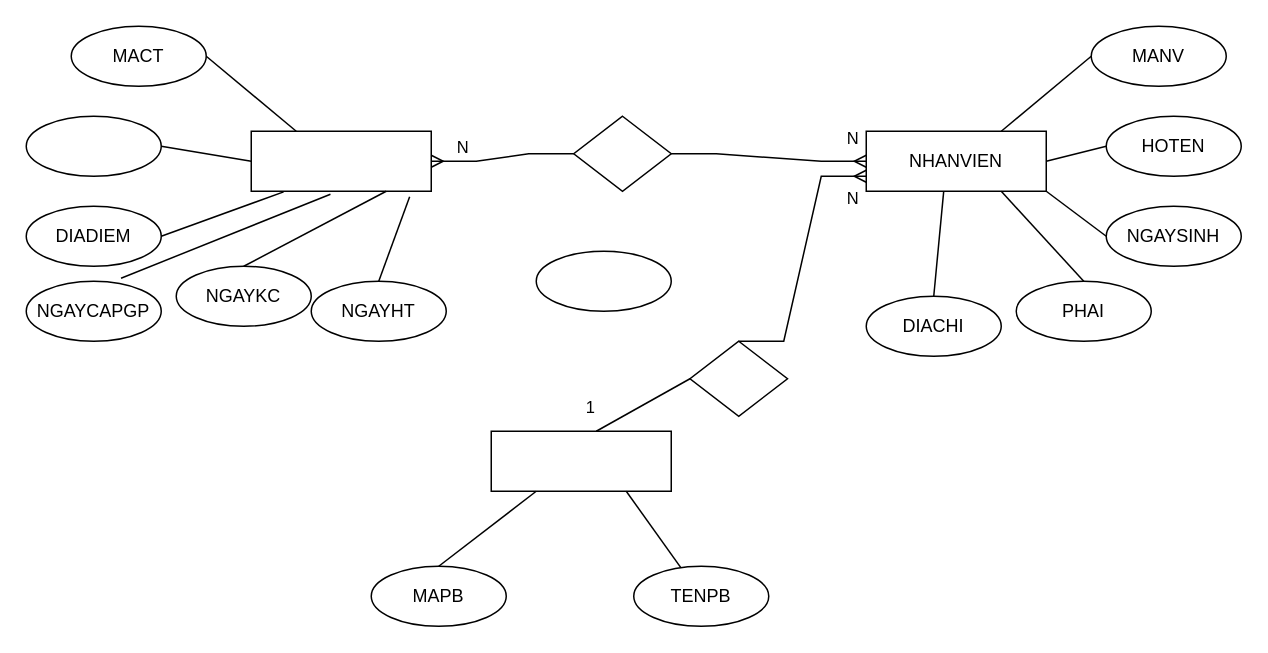
This 1268x653 diagram has some shape labels left out. The box of each missing label's shape, as (x1, y1, x2, y2) in pixels:
CO: (688, 340, 788, 416)
CONGTRINH: (250, 130, 431, 191)
LAM: (572, 115, 671, 191)
PHONGBAN: (490, 430, 671, 491)
SLNC: (535, 250, 671, 311)
TENCT: (25, 115, 161, 176)
